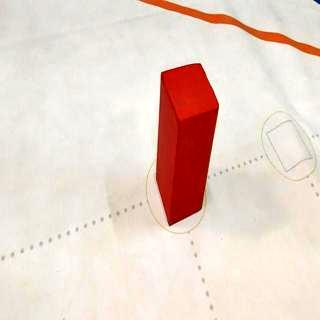redbox: (154, 61, 220, 225)
